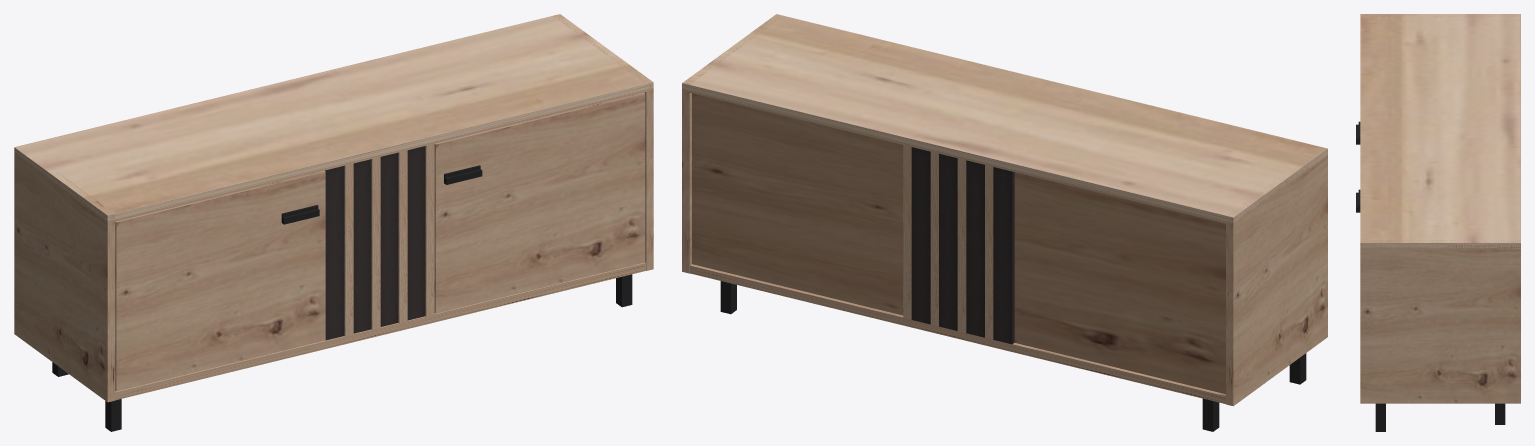
File: laval_tv_ar.glb
The picture shows the model from 3 angles, left to right: view 1: azimuth 30°, elevation 25°; view 2: azimuth 150°, elevation 25°; view 3: azimuth 270°, elevation 25°; orthographic projection. The views are drawn at different scales.
Parts seen in each view (by area): view 1: korpus, vrata_desno, vrata_levo; view 2: korpus; view 3: korpus.
Part boxes in pixels (x1,y1,x2,y2): korpus: [14, 14, 653, 431]; vrata_desno: [434, 92, 645, 313]; vrata_levo: [115, 170, 325, 391]; korpus: [682, 14, 1327, 431]; korpus: [1360, 14, 1520, 431].
Size of the model in its own units: 1.32 by 0.52 by 0.4.
7 materials, 5 textured.
